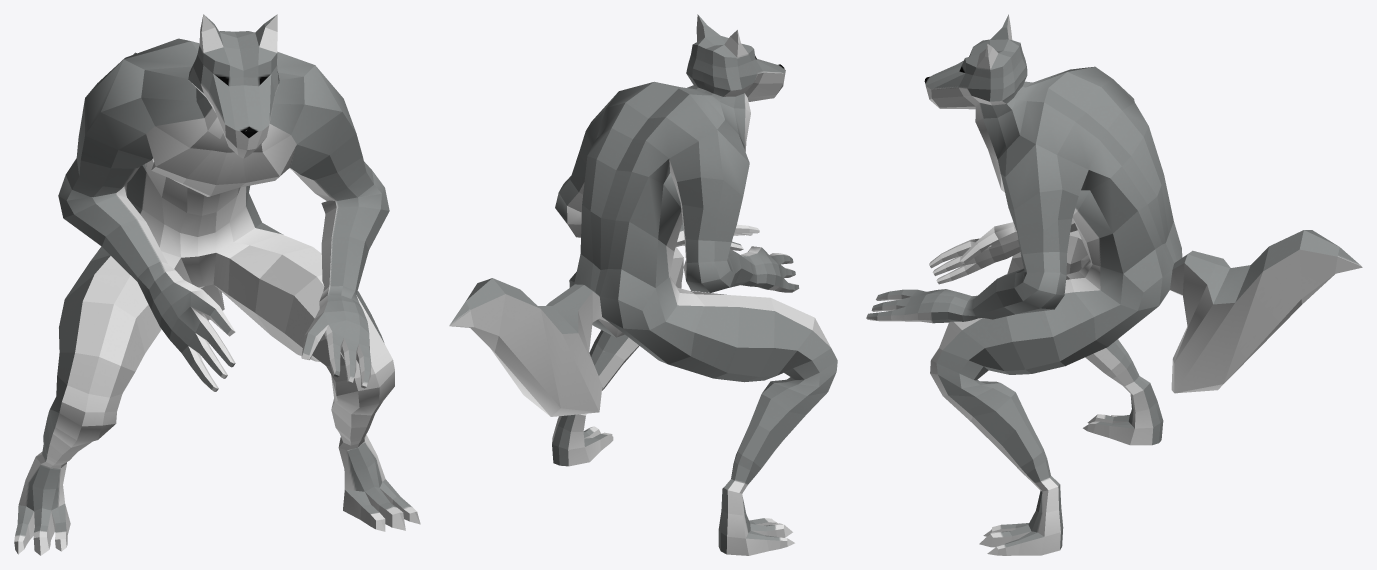
File: WolfAttack(2).obj
3 renders of one model, left to right at view 1: azimuth 30°, elevation 25°; view 2: azimuth 150°, elevation 25°; view 3: azimuth 270°, elevation 25°, orthographic. The views are drawn at different scales.
Visible parts, largest first — view 1: Box001; view 2: Box001; view 3: Box001.
Part boxes in pixels (<box>): Box001: <box>14,14,420,555</box>; Box001: <box>449,14,837,555</box>; Box001: <box>866,14,1362,555</box>.
Bounding box in the file's own units: 76.71 × 119 × 117.
